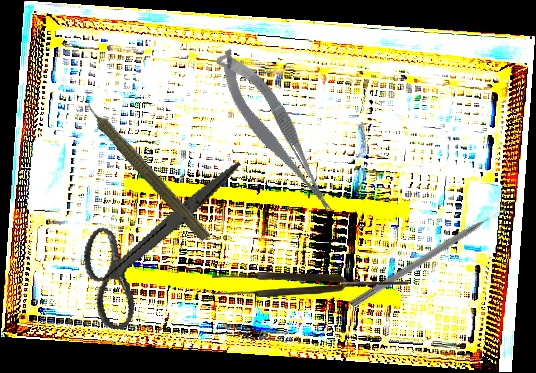Handpiece: (72, 88, 216, 244)
Iris Scissors: (67, 131, 242, 350)
Micro Scissor: (209, 39, 341, 228)
Pusher: (349, 204, 510, 310)
Tissue Forceps: (212, 272, 408, 297)
